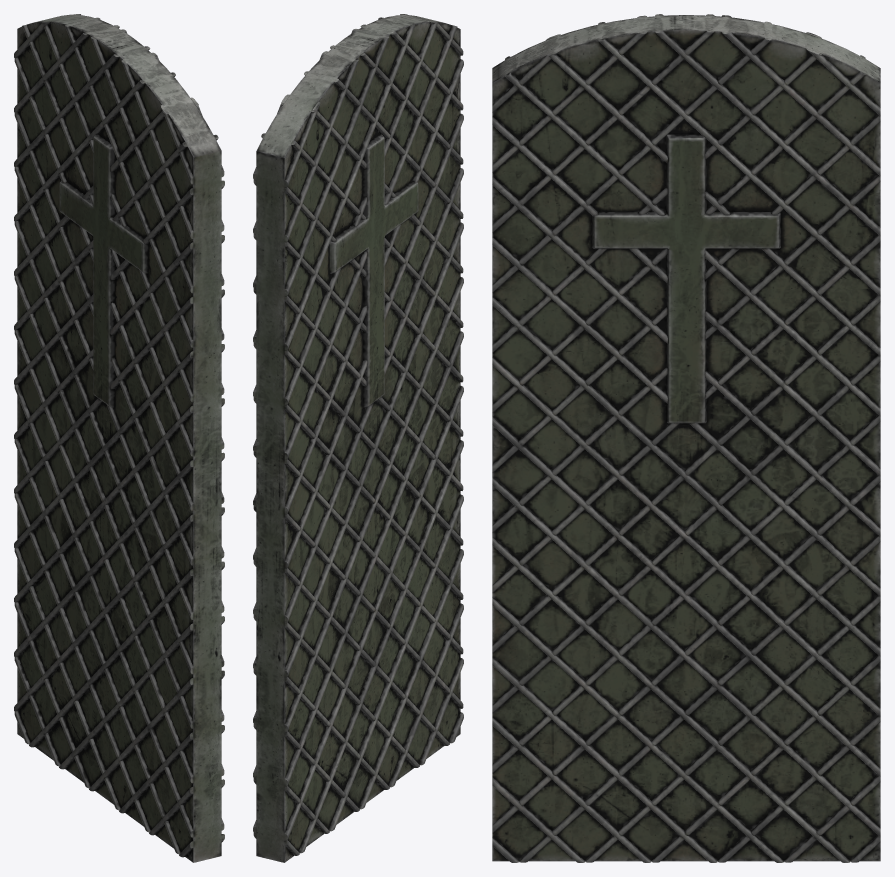
File: SM_MDoorE.fbx
The picture shows the model from 3 angles, left to right: view 1: azimuth 30°, elevation 25°; view 2: azimuth 150°, elevation 25°; view 3: azimuth 270°, elevation 25°; orthographic projection. The views are drawn at different scales.
Visible parts, largest first — view 1: SM_MDoorE_LOD0; view 2: SM_MDoorE_LOD0; view 3: SM_MDoorE_LOD0.
Boxes of the visible parts, box(x1,y1,x2,y2) form: SM_MDoorE_LOD0: box(14, 14, 224, 862); SM_MDoorE_LOD0: box(253, 14, 463, 862); SM_MDoorE_LOD0: box(492, 14, 880, 862).
Bounding box in the file's own units: 11.18 × 92.25 × 218.
1 material, 1 textured.
